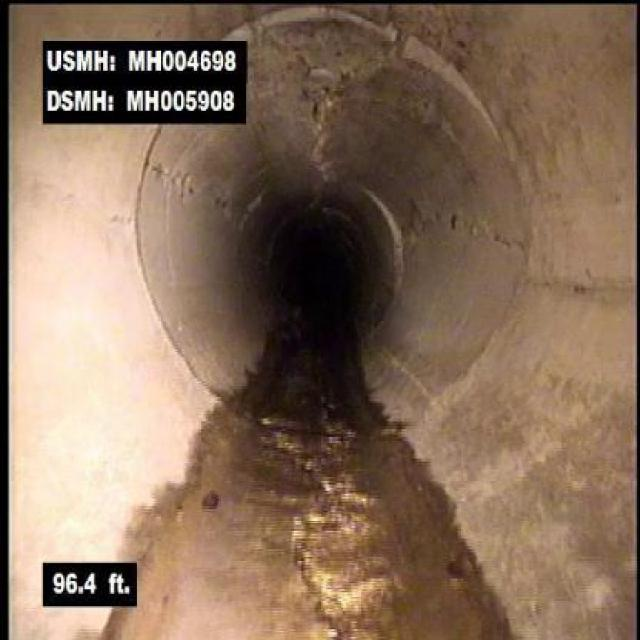Crack: (311, 21, 420, 154), (289, 530, 357, 638)
Joint offset: (414, 35, 498, 128)
